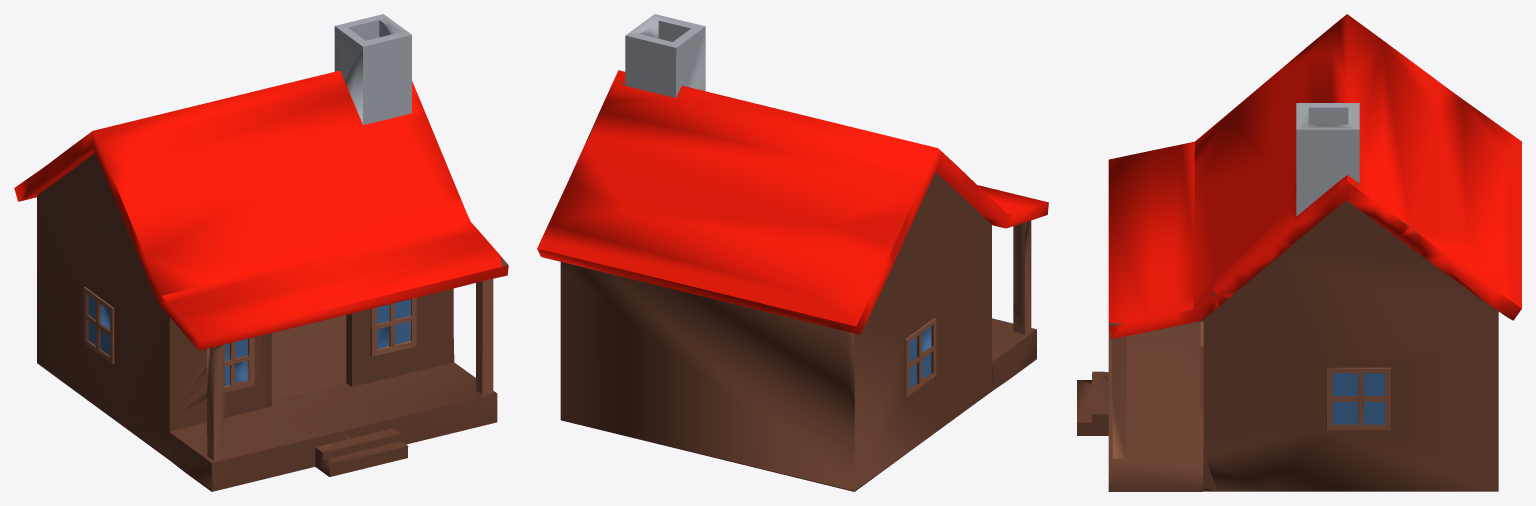
The model's file is house_ai.glb.
The picture shows the model from 3 angles, left to right: view 1: azimuth 30°, elevation 25°; view 2: azimuth 150°, elevation 25°; view 3: azimuth 270°, elevation 25°; orthographic projection. The views are drawn at different scales.
Visible parts, largest first — view 1: model; view 2: model; view 3: model.
Part boxes in pixels (left/top/right/bottom): model: left=14, top=14, right=508, bottom=491; model: left=537, top=14, right=1048, bottom=491; model: left=1077, top=14, right=1521, bottom=491.
Size of the model in its own units: 1.58 by 1.6 by 1.78.
Materials: 1 (1 with a texture image).
